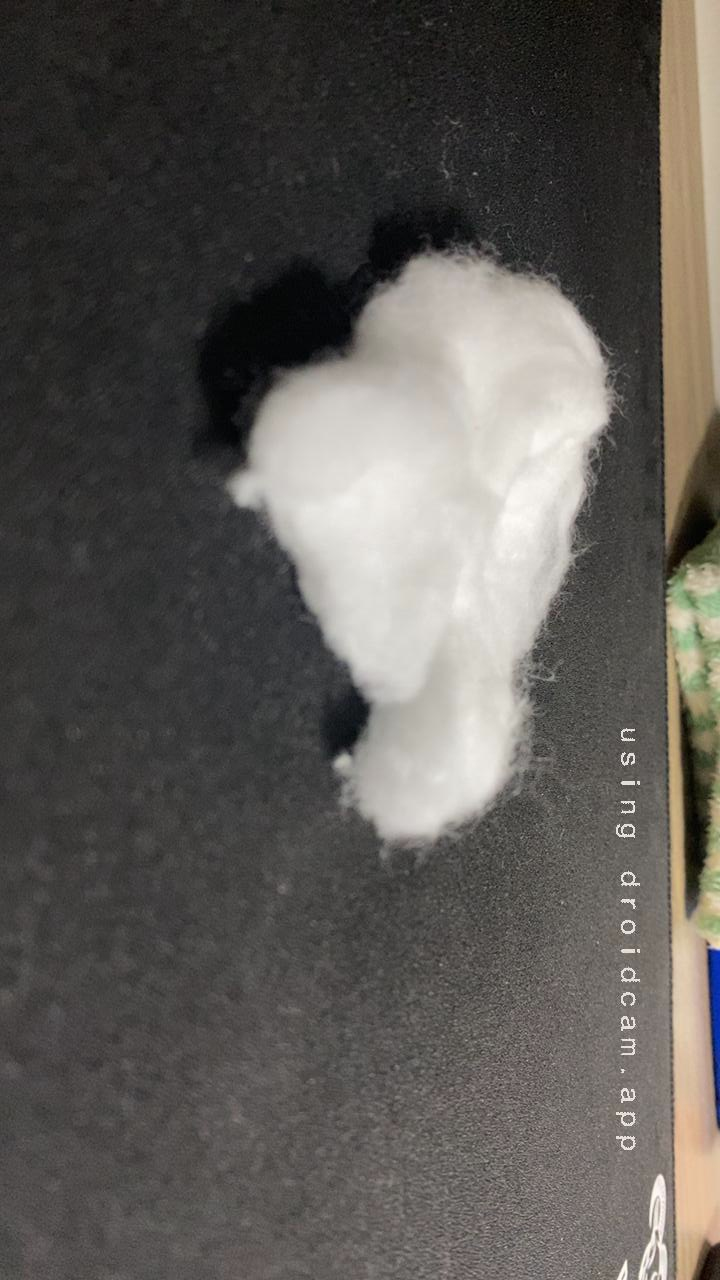cotton: (190, 217, 708, 891)
